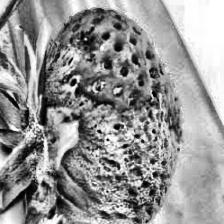Gray Mold: (0, 29, 181, 224)
